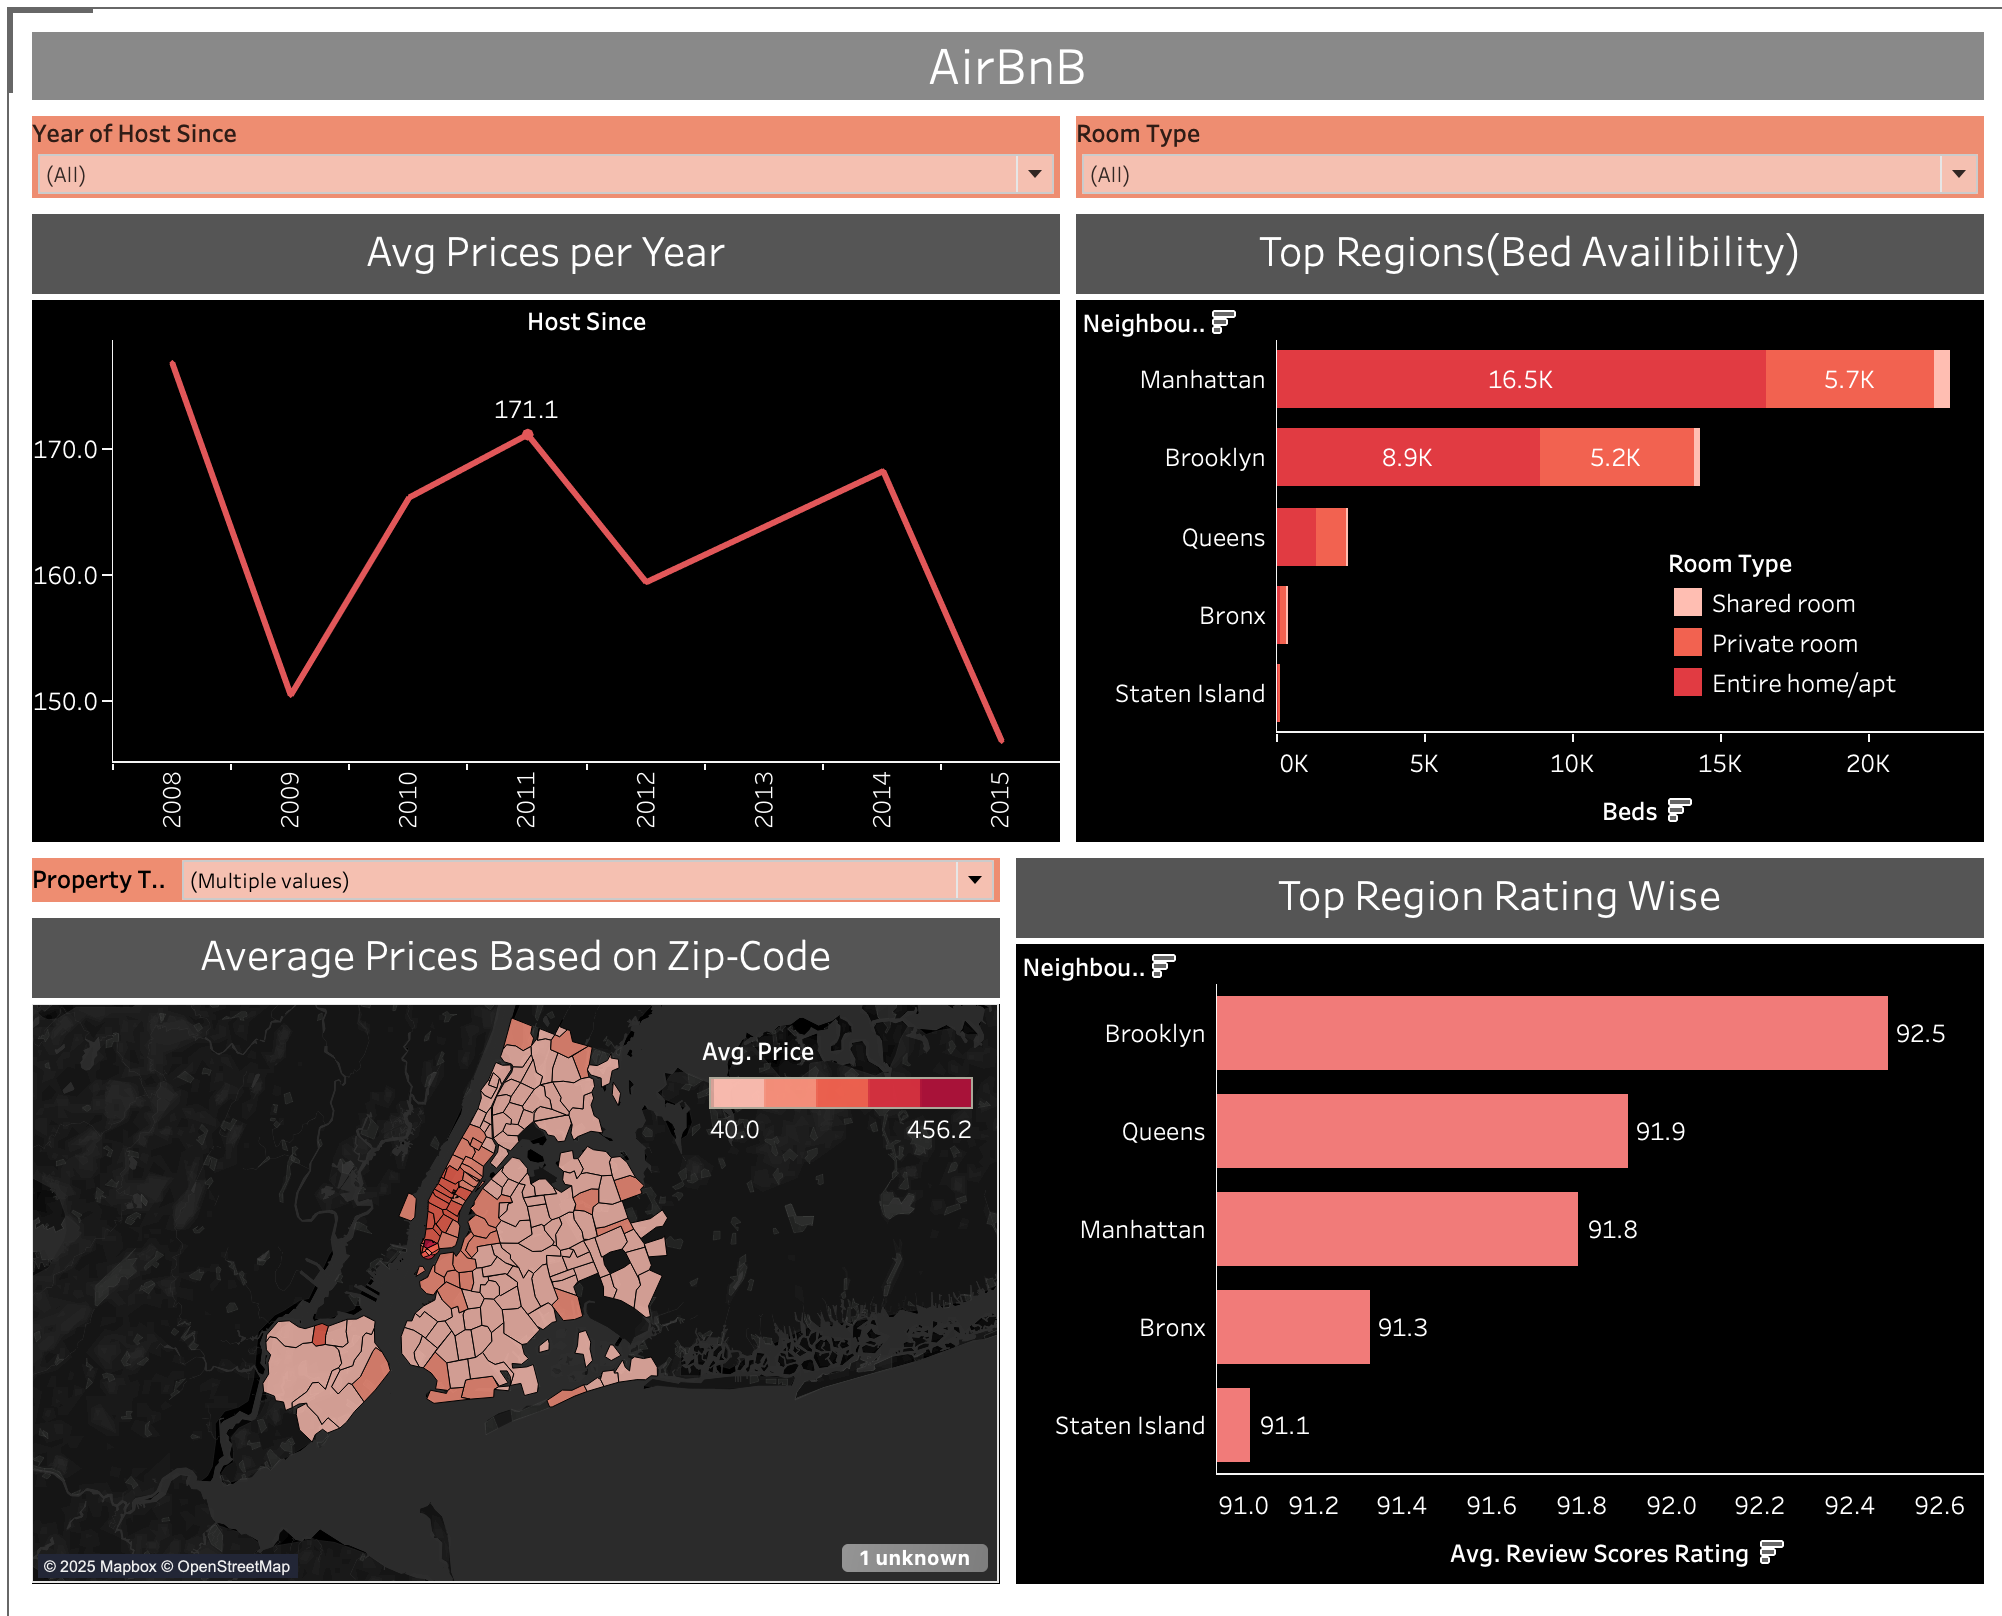

Layout of this report page (visuals, bound fields, positions):
{"tool":"tableau","page":{"name":"Dashboard 1","canvas":[1000,800],"ordinal":0},"visuals":[{"type":"title","box":[8,8,984,42]},{"type":"filter","title":"Sheet 2","param":"[federated.1npee3g1epoky214do4ds0xwzqj8].[yr:Host Since:ok]","box":[8,50,522.5,49.2]},{"type":"filter","title":"Sheet 2","param":"[federated.1npee3g1epoky214do4ds0xwzqj8].[none:Room Type:nk]","box":[530.5,50,461.5,49.2]},{"type":"worksheet","title":"Sheet 4","mark":"Automatic","rows":["Price"],"cols":["Host Since"],"box":[8,99.2,522,321.8]},{"type":"worksheet","title":"Sheet 3","mark":"Automatic","rows":["Neighbourhood"],"cols":["Beds"],"box":[530,99.2,462,321.8]},{"type":"legend","title":"Sheet 3","param":"[federated.1npee3g1epoky214do4ds0xwzqj8].[none:Room Type:nk]","box":[830,269,140,78]},{"type":"filter","title":"Sheet 3","param":"[federated.1npee3g1epoky214do4ds0xwzqj8].[none:Property Type:nk]","box":[8,421,492,30.3]},{"type":"worksheet","title":"Sheet 2","mark":"Automatic","rows":["Neighbourhood"],"cols":["Review Scores Rating"],"box":[500,421,492,371]},{"type":"worksheet","title":"Sheet 1","mark":"Automatic","box":[8,451.3,492,340.7]},{"type":"legend","title":"Sheet 1","param":"[federated.1npee3g1epoky214do4ds0xwzqj8].[avg:Price:qk]","box":[347,513,140,76]}]}

Visuals, with their boxes in screenshot pixels (x1, y1, x2, y2), scaled from the page's 1000x800 canvas onto the 2002x1616 screenshot:
title: <box>16,16,1986,101</box>
"Sheet 2" filter: <box>16,101,1062,200</box>
"Sheet 2" filter: <box>1062,101,1986,200</box>
"Sheet 4" worksheet: <box>16,200,1061,850</box>
"Sheet 3" worksheet: <box>1061,200,1986,850</box>
"Sheet 3" legend: <box>1662,543,1942,701</box>
"Sheet 3" filter: <box>16,850,1001,912</box>
"Sheet 2" worksheet: <box>1001,850,1986,1600</box>
"Sheet 1" worksheet: <box>16,912,1001,1600</box>
"Sheet 1" legend: <box>695,1036,975,1190</box>
